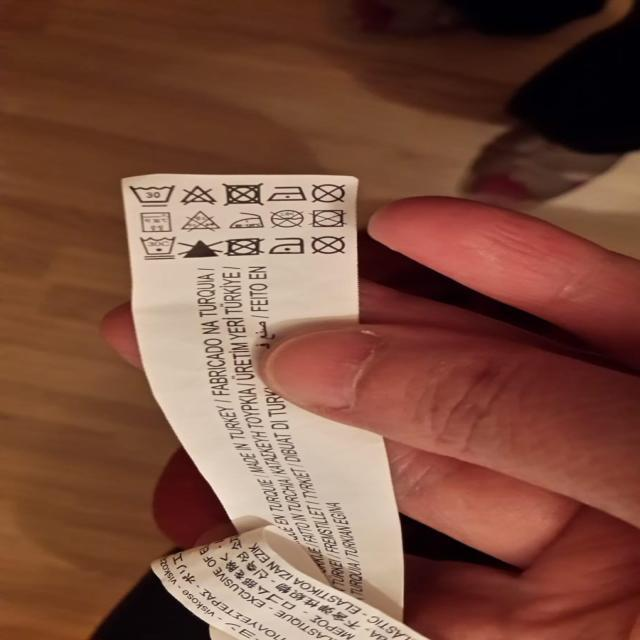30C: (131, 177, 177, 208), (139, 207, 177, 236), (141, 235, 179, 258)
DN_bleach: (179, 181, 218, 208), (180, 207, 220, 232), (181, 235, 221, 260)
DN_dry_clean: (309, 180, 349, 204), (311, 233, 350, 256), (270, 206, 306, 230)
DN_tumble_dry: (222, 181, 265, 208), (225, 233, 265, 258), (310, 204, 346, 228)
iron_low: (269, 180, 307, 204), (269, 233, 306, 256), (227, 210, 265, 232)
